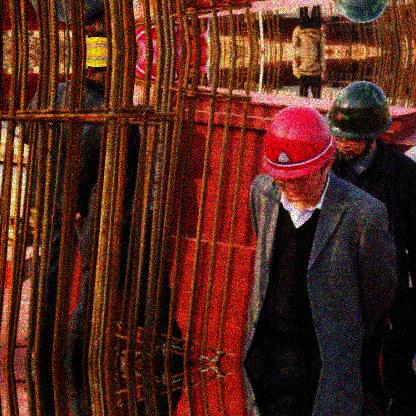helmet: (261, 104, 338, 202), (327, 81, 393, 160)
